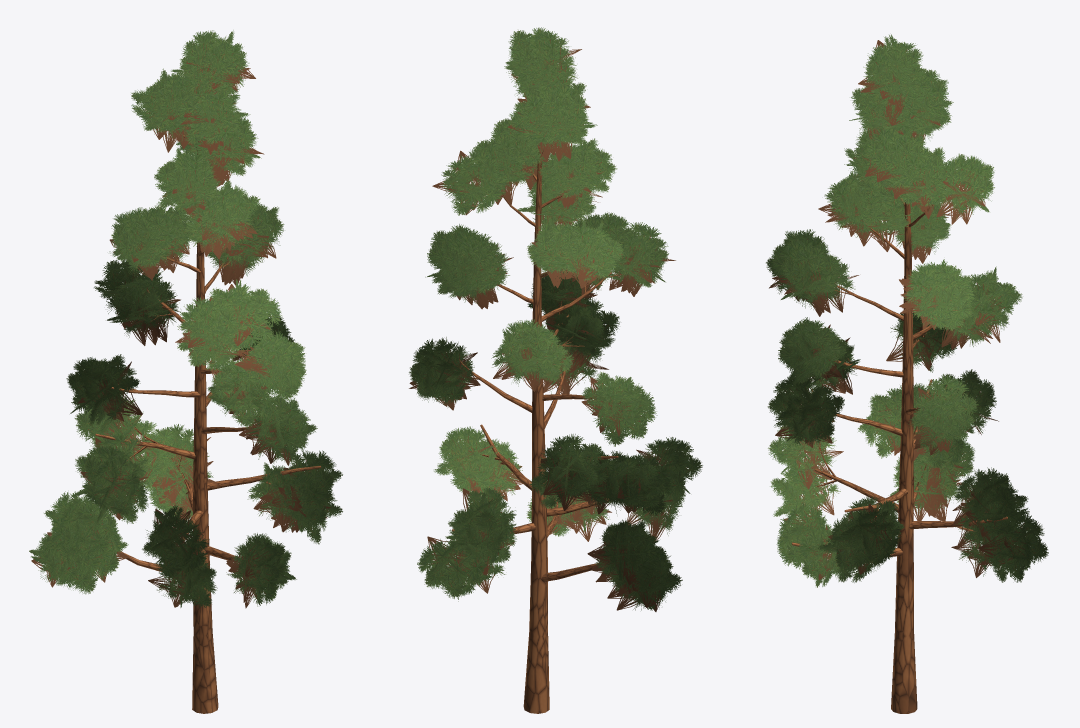
Rendered from veg_ponderosa_pine_b.fbx.
3 renders of one model, left to right at view 1: azimuth 30°, elevation 25°; view 2: azimuth 150°, elevation 25°; view 3: azimuth 270°, elevation 25°, orthographic.
Parts seen in each view (by area): view 1: veg_ponderosa_pine_b_LOD0; view 2: veg_ponderosa_pine_b_LOD0; view 3: veg_ponderosa_pine_b_LOD0.
Part boxes in pixels (x1,y1,x2,y2): veg_ponderosa_pine_b_LOD0: (29, 30, 342, 713); veg_ponderosa_pine_b_LOD0: (409, 27, 702, 713); veg_ponderosa_pine_b_LOD0: (766, 34, 1048, 713).
Size of what is drawn, in the model's own units: 8.27 by 18.5 by 7.78.
Materials: 2 (2 with a texture image).
